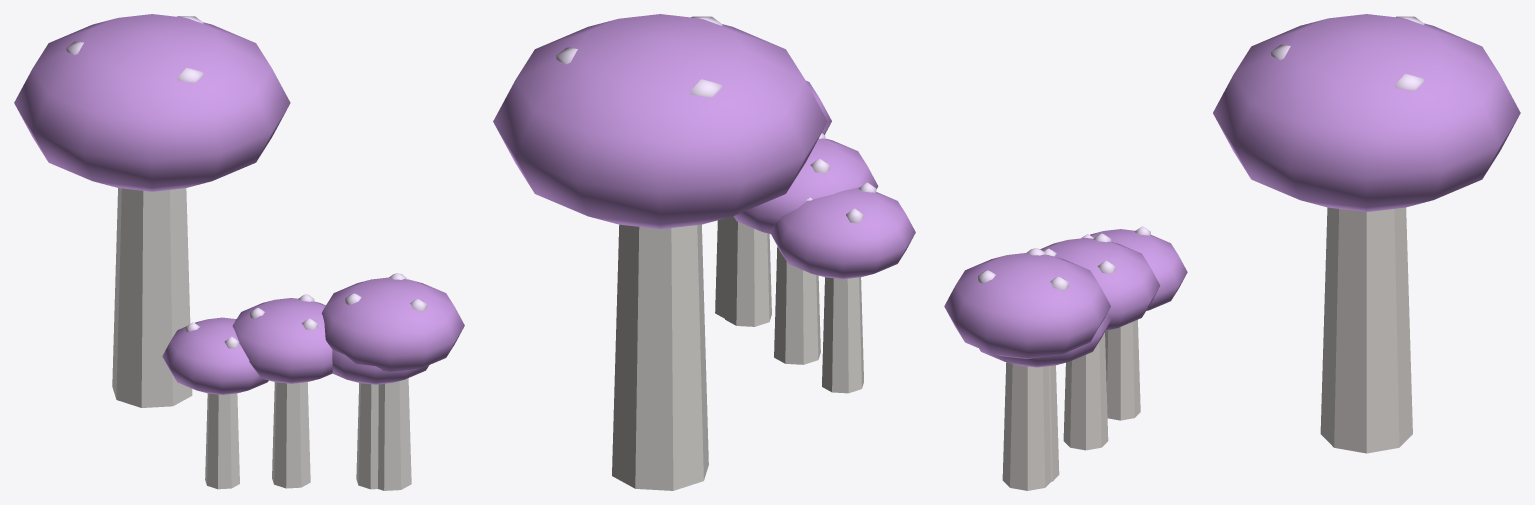
The model's file is Mushrooms.gltf.
3 renders of one model, left to right at view 1: azimuth 30°, elevation 25°; view 2: azimuth 150°, elevation 25°; view 3: azimuth 270°, elevation 25°, orthographic. The views are drawn at different scales.
Visible parts, largest first — view 1: Mushrooms; view 2: Mushrooms; view 3: Mushrooms.
Boxes of the visible parts, bbox=[...] form: Mushrooms: bbox=[14, 14, 464, 490]; Mushrooms: bbox=[493, 14, 915, 490]; Mushrooms: bbox=[944, 14, 1520, 490].
Size of the model in its own units: 0.2255 by 0.285 by 0.3744.
